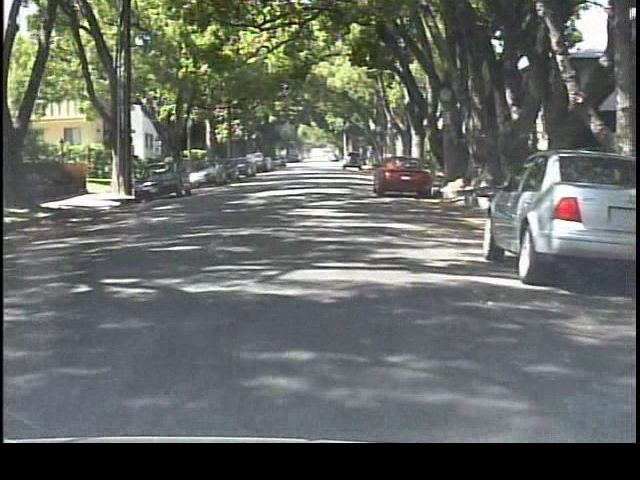person: (160, 151, 180, 188)
